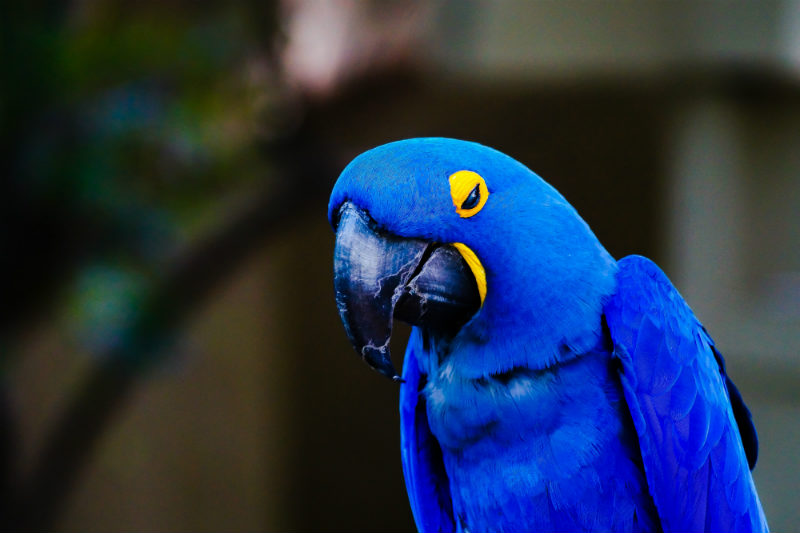guacamaya: (318, 122, 769, 533)
